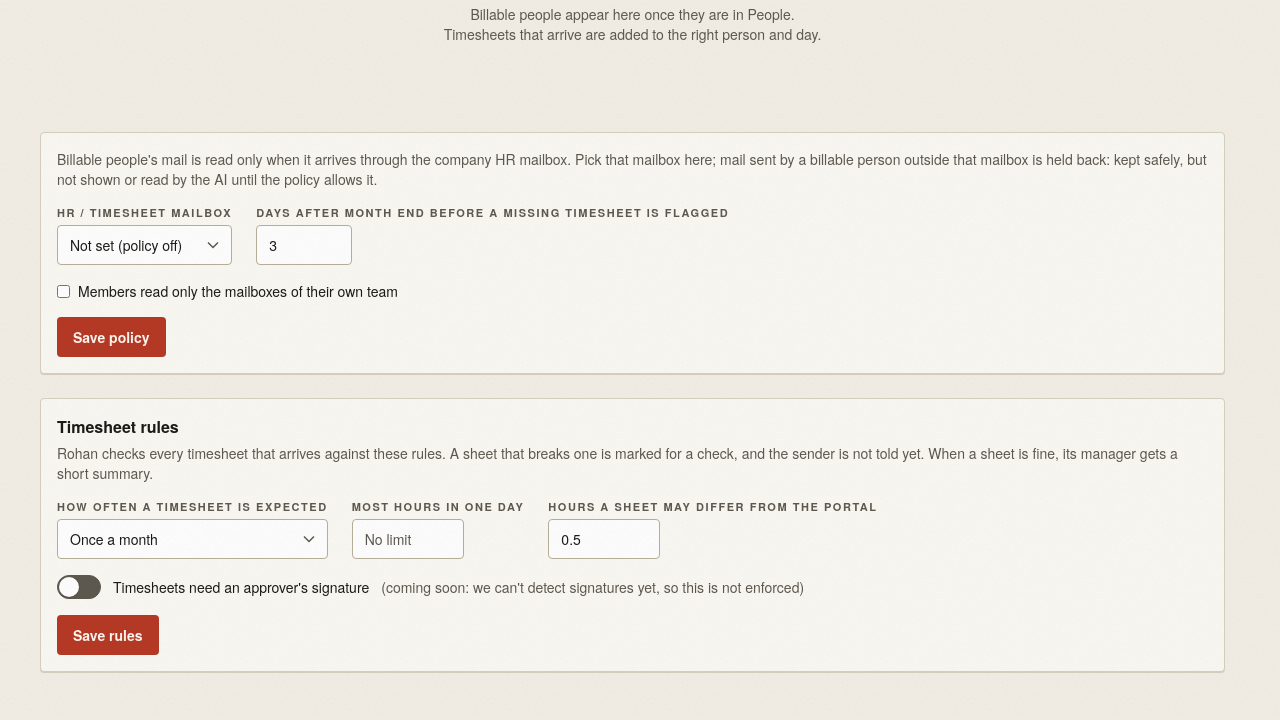
Scenario: TimesheetsPage › refuses a blank tolerance instead of saving 0, and says the signature rule is not enforced yet
(page scrolled)
Expected: the text "coming soon" is shown, [381,577,804,597]
Clear the number field labelled "Hours a sheet may differ from the portal" at (604, 539), box [548,519,660,559]
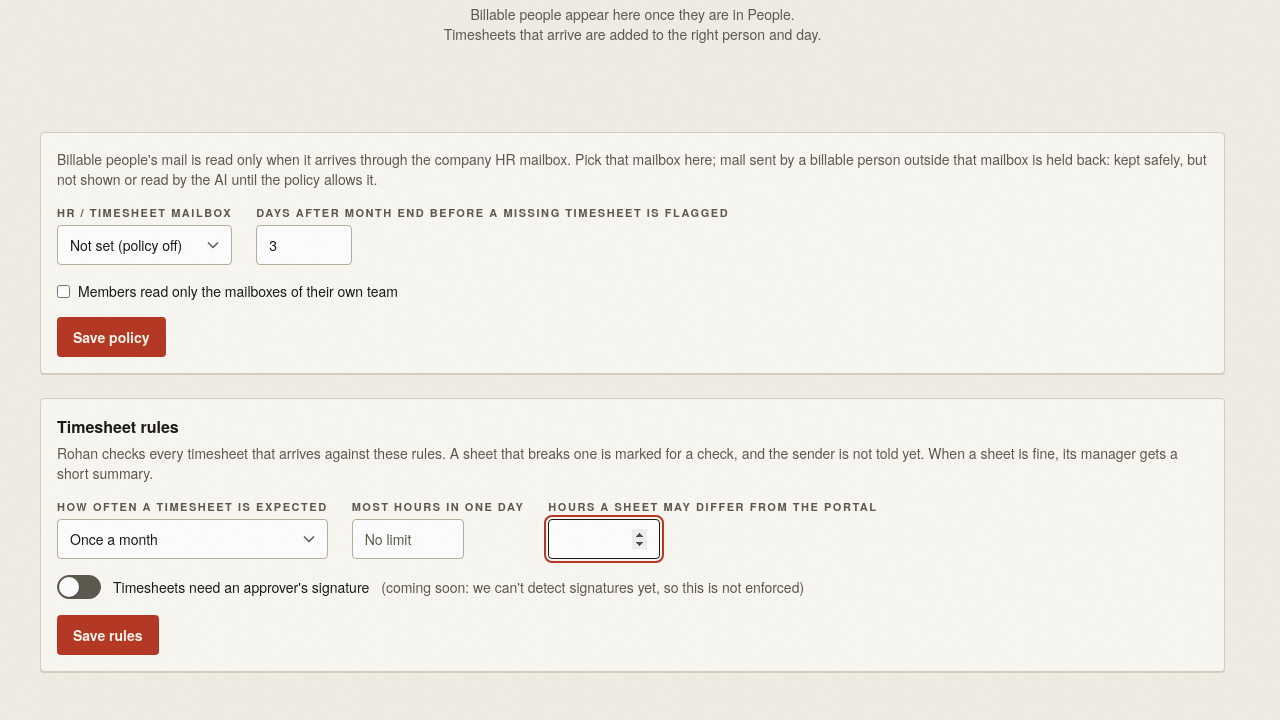
Click the button "Save rules" at (108, 635), box [57,615,159,655]
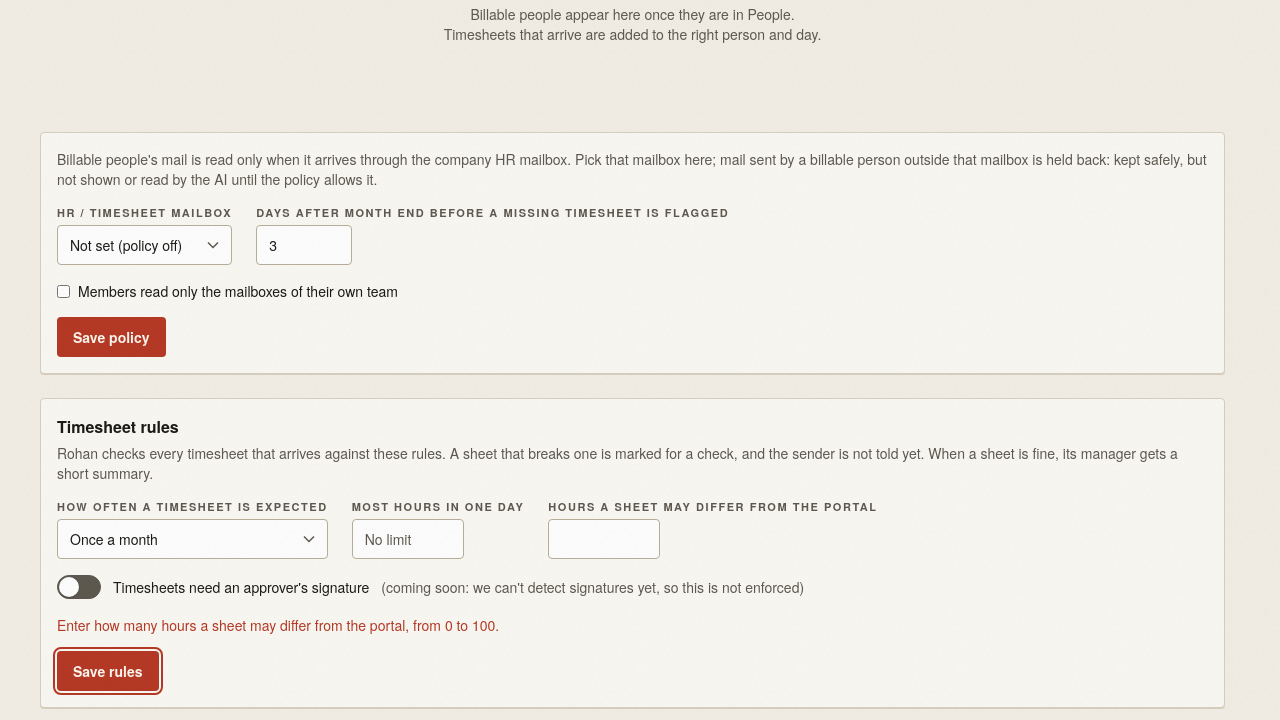
Now the message shows "from 0 to 100", box [57,615,499,635]
